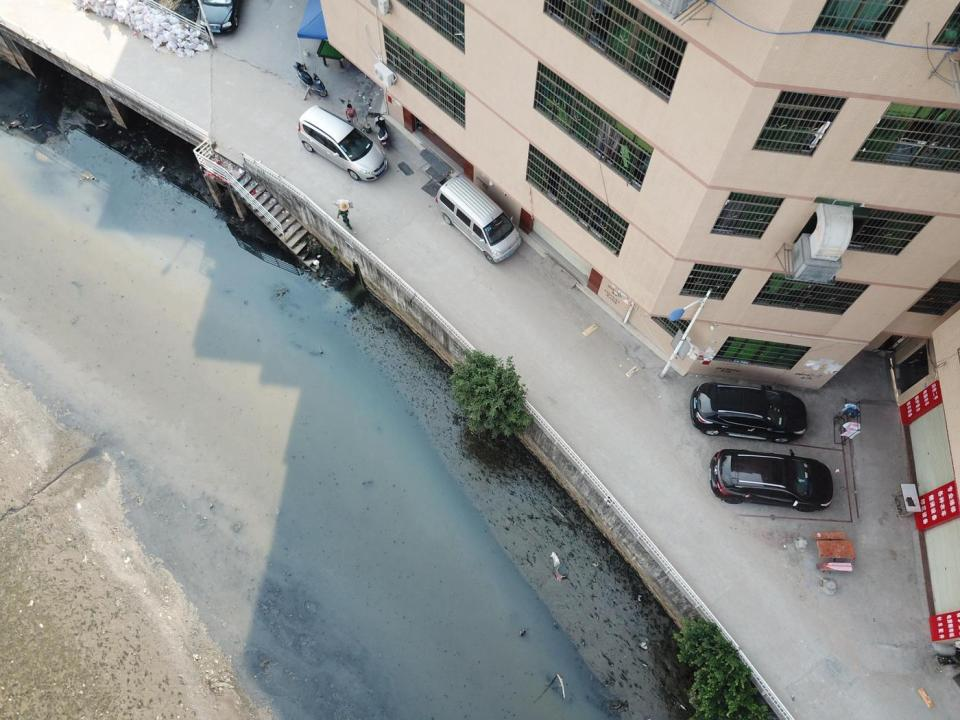car: (709, 448, 834, 512), (690, 382, 808, 444), (198, 0, 238, 34)
van: (436, 172, 521, 264), (296, 105, 388, 181)
